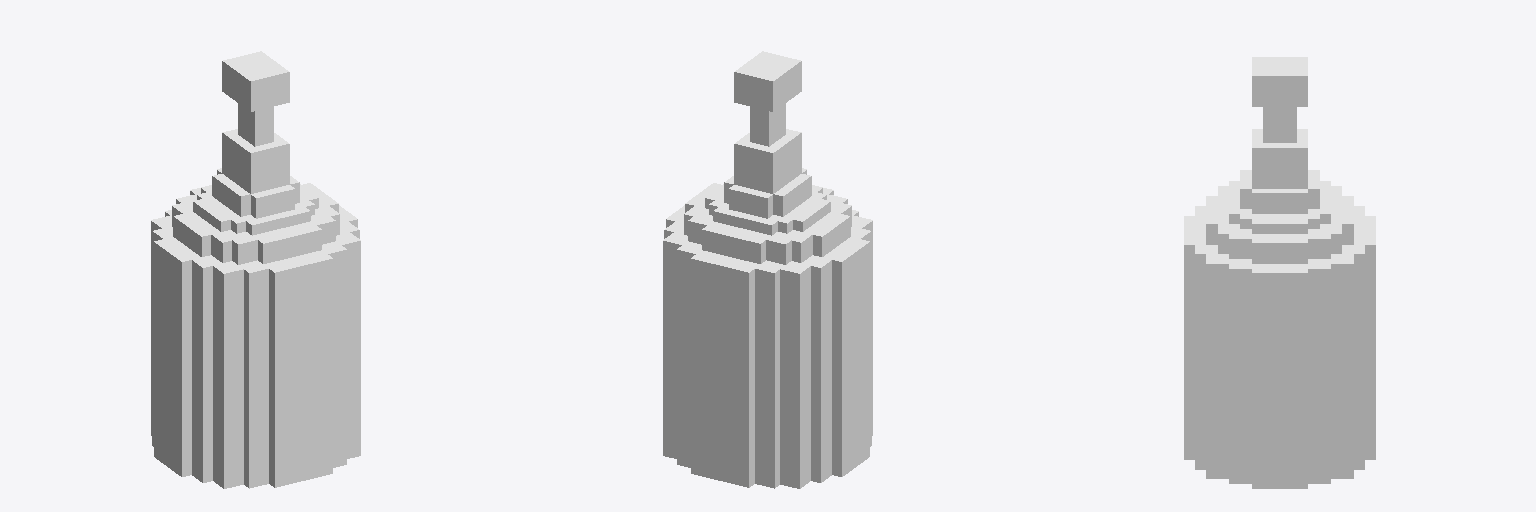
The model's file is veneno.obj.
3 renders of one model, left to right at view 1: azimuth 30°, elevation 25°; view 2: azimuth 150°, elevation 25°; view 3: azimuth 270°, elevation 25°, orthographic.
Visible parts, largest first — view 1: object 1; view 2: object 1; view 3: object 1.
Boxes of the visible parts, <box> form: object 1: <box>151,51,360,488</box>; object 1: <box>663,51,872,488</box>; object 1: <box>1184,57,1375,488</box>.
Bounding box in the file's own units: 1.8 × 3.7 × 1.7.